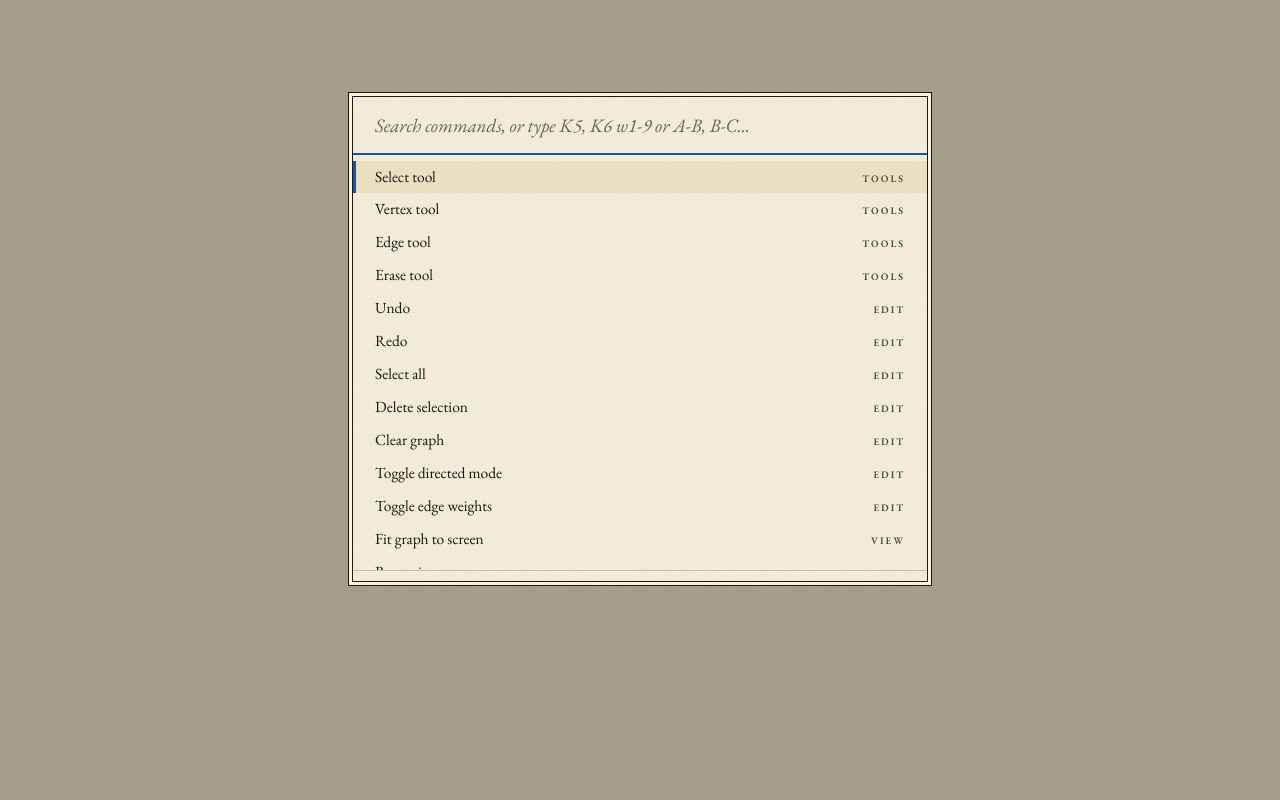
Scenario: the command palette › says what an arrow and a weight would change
This screenshot has width=1280, height=800.
In the dropdown named "Command search": {"x": 640, "y": 126} [353,97,927,154], type "a->b:2"
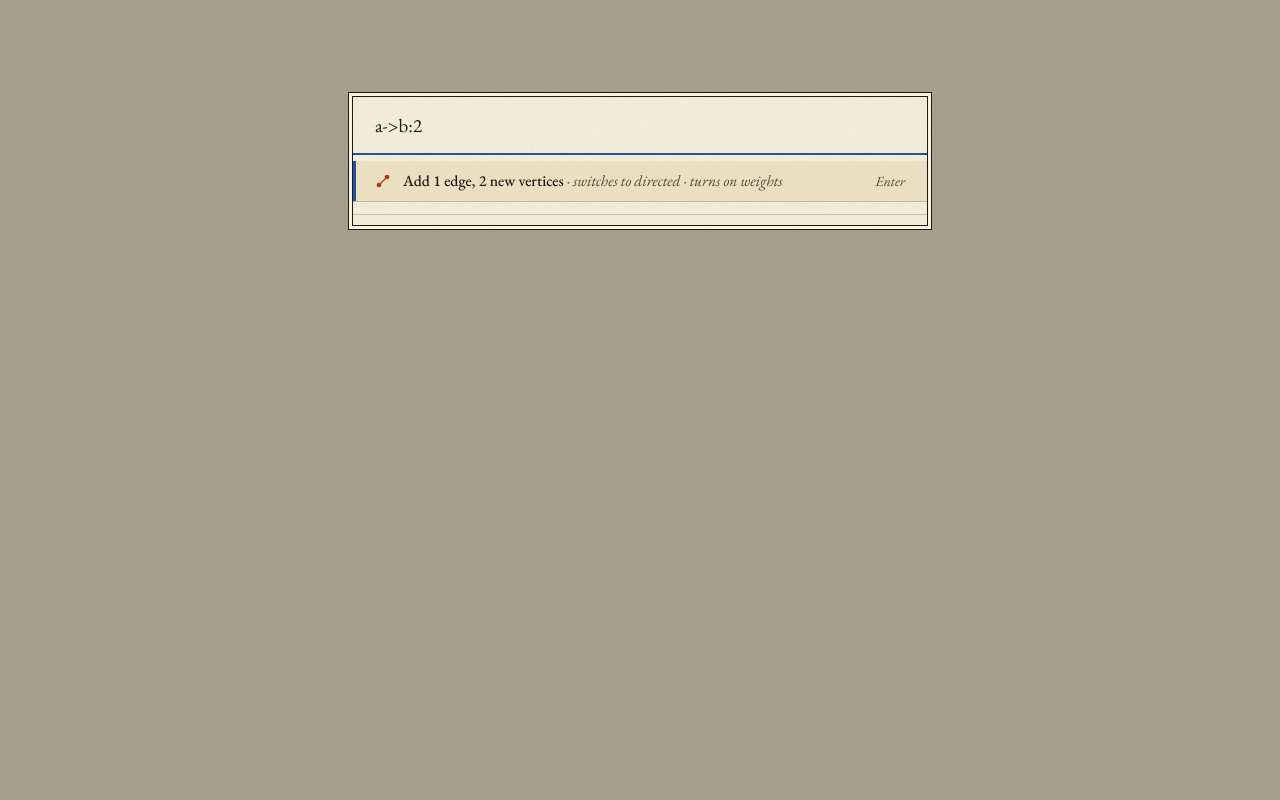
Result: the option shows "Add 1 edge, 2 new vertices · switches to directed · turns on weights" at [353,160,927,202]
